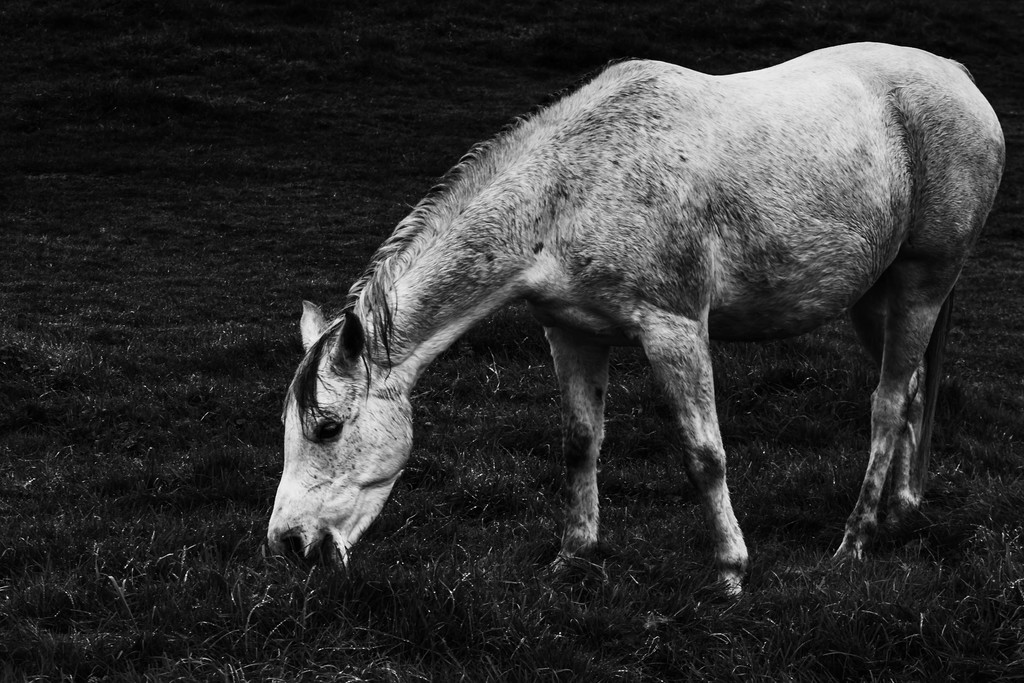horse: (261, 37, 1007, 601)
